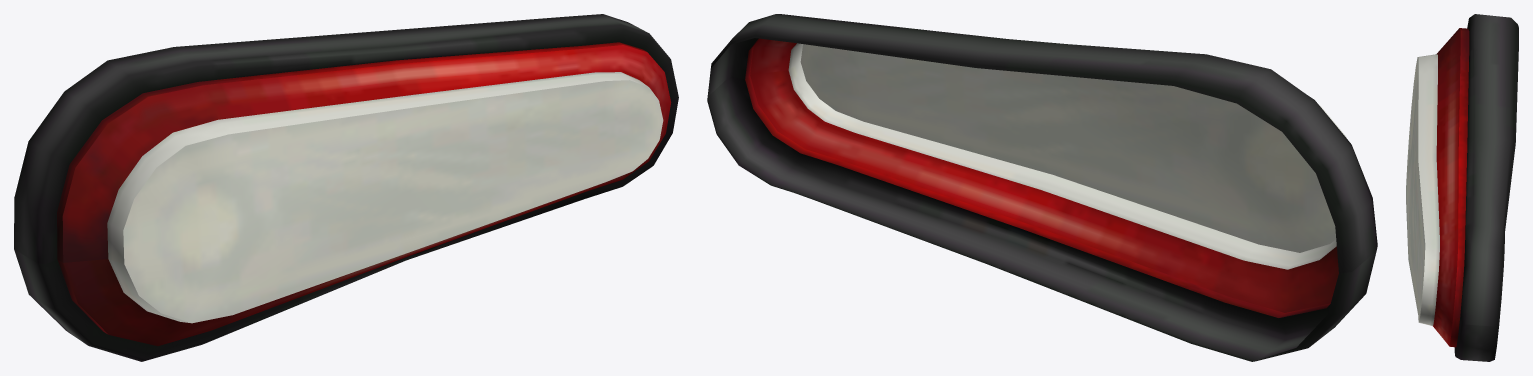
File: Flipper.dae
The picture shows the model from 3 angles, left to right: view 1: azimuth 30°, elevation 25°; view 2: azimuth 150°, elevation 25°; view 3: azimuth 270°, elevation 25°; orthographic projection. The views are drawn at different scales.
Visible parts, largest first — view 1: Mesh_0.066; view 2: Mesh_0.066; view 3: Mesh_0.066.
Part boxes in pixels (left/top/right/bottom): Mesh_0.066: left=14, top=14, right=678, bottom=361; Mesh_0.066: left=707, top=14, right=1377, bottom=361; Mesh_0.066: left=1406, top=14, right=1518, bottom=361.
Size of the model in its own units: 4.29 by 0.8701 by 1.79.
1 material, 1 textured.
